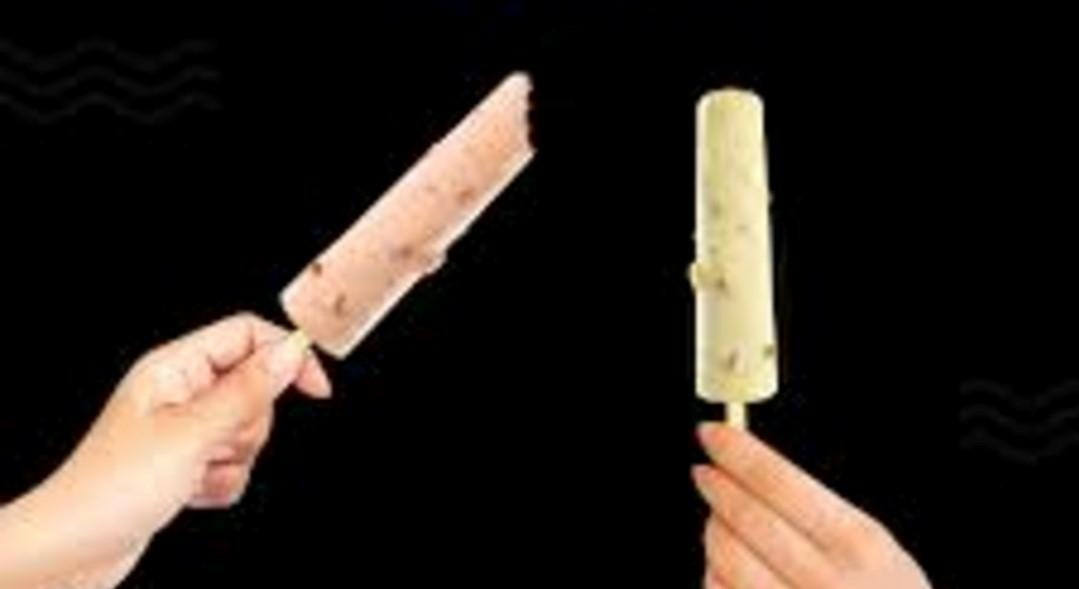Kulfi: (275, 72, 536, 357), (692, 89, 784, 405)
